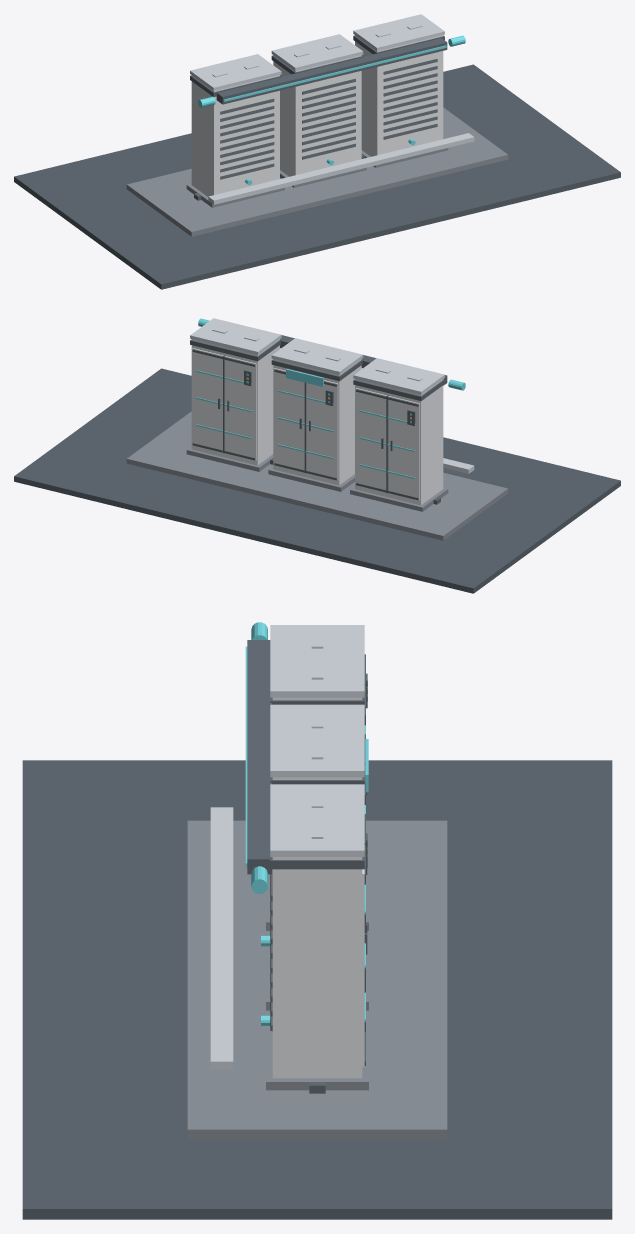
The picture shows the model from 3 angles, top to bottom: view 1: azimuth 30°, elevation 25°; view 2: azimuth 150°, elevation 25°; view 3: azimuth 270°, elevation 25°; orthographic projection. The views are drawn at different scales.
Visible parts, largest first — view 1: Ground, SkidPad, Cabinet_1_Body, Cabinet_3_Body, Cabinet_2_Body, CableTray, TopBusDuct, Cabinet_2_TopCap, Cabinet_3_TopCap, Cabinet_1_TopCap, TopBusBand, Cabinet_1_Base; view 2: Ground, SkidPad, Cabinet_1_Body, Cabinet_3_DoorLeft, Cabinet_1_DoorRight, Cabinet_1_DoorLeft, Cabinet_2_DoorLeft, Cabinet_3_DoorRight, Cabinet_2_DoorRight, Cabinet_3_Body, Cabinet_2_Body, Cabinet_2_TopCap (+8 smaller); view 3: Ground, SkidPad, Cabinet_3_Body, Cabinet_2_TopCap, Cabinet_1_TopCap, Cabinet_3_TopCap, CableTray, TopBusDuct, Cabinet_3_Base, Cabinet_3_RoofBand.
Boxes of the visible parts, x1,y1,x2,y2 form: Ground: [14, 64, 620, 289]; SkidPad: [126, 107, 508, 236]; Cabinet_1_Body: [191, 75, 279, 196]; Cabinet_3_Body: [355, 35, 443, 156]; Cabinet_2_Body: [273, 55, 361, 176]; CableTray: [208, 133, 474, 204]; TopBusDuct: [216, 38, 447, 104]; Cabinet_2_TopCap: [271, 34, 363, 70]; Cabinet_3_TopCap: [353, 14, 444, 50]; Cabinet_1_TopCap: [190, 54, 281, 90]; TopBusBand: [224, 45, 446, 101]; Cabinet_1_Base: [186, 183, 284, 207]; Ground: [14, 368, 620, 593]; SkidPad: [126, 411, 508, 540]; Cabinet_1_Body: [355, 379, 443, 505]; Cabinet_3_DoorLeft: [224, 356, 256, 460]; Cabinet_1_DoorRight: [355, 388, 386, 489]; Cabinet_1_DoorLeft: [388, 396, 419, 500]; Cabinet_2_DoorLeft: [306, 380, 338, 480]; Cabinet_3_DoorRight: [192, 348, 223, 450]; Cabinet_2_DoorRight: [273, 368, 304, 469]; Cabinet_3_Body: [191, 339, 279, 465]; Cabinet_2_Body: [273, 359, 361, 485]; Cabinet_2_TopCap: [271, 338, 363, 374]; Ground: [22, 760, 612, 1219]; SkidPad: [187, 820, 447, 1139]; Cabinet_3_Body: [272, 857, 362, 1078]; Cabinet_2_TopCap: [270, 704, 364, 777]; Cabinet_1_TopCap: [270, 625, 364, 697]; Cabinet_3_TopCap: [270, 784, 364, 856]; CableTray: [210, 807, 233, 1069]; TopBusDuct: [247, 640, 271, 874]; Cabinet_3_Base: [266, 1010, 368, 1090]; Cabinet_3_RoofBand: [270, 857, 364, 869].
Size of the model in its own units: 18 by 4.86 by 10.
